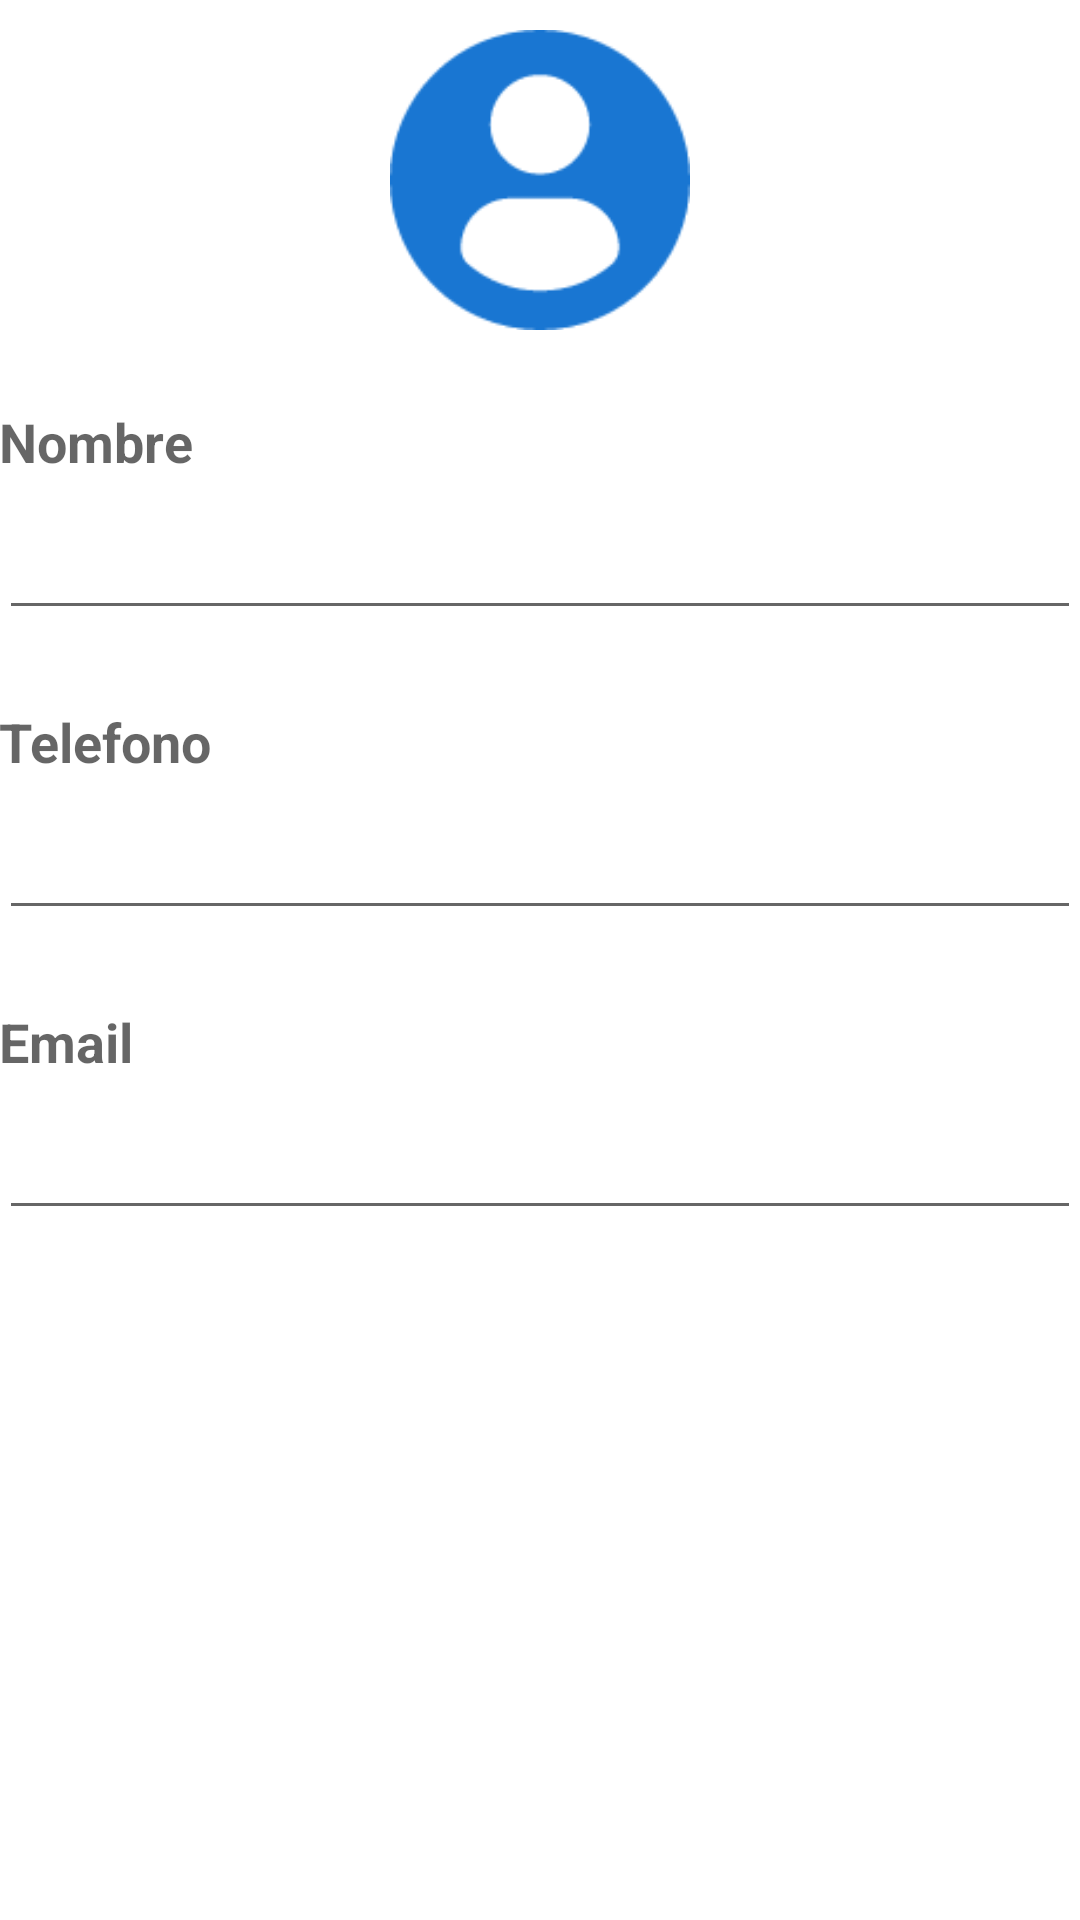

Named icons in this screenshot (1080 x 1920) and their bounding boxes, rect(x1, y1, x2, y2):
profile: rect(390, 30, 690, 330)
